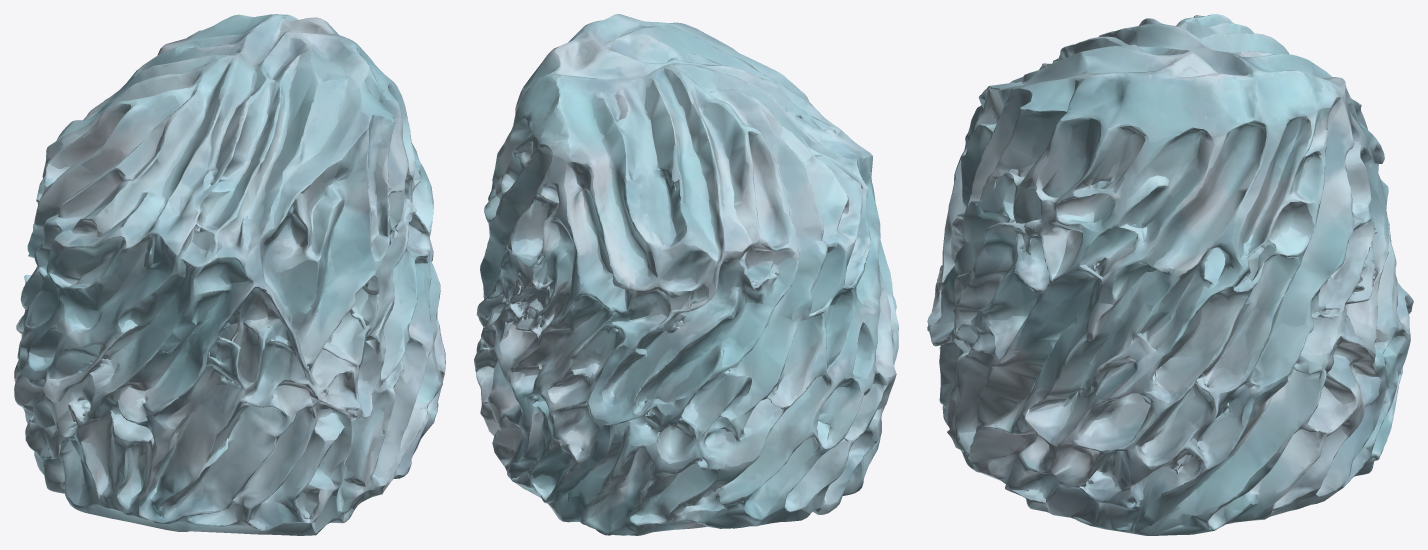
File: glacier-serac-v21.glb
3 views of the same model, side by side, from view 1: azimuth 30°, elevation 25°; view 2: azimuth 150°, elevation 25°; view 3: azimuth 270°, elevation 25° (orthographic). The views are drawn at different scales.
Visible parts, largest first — view 1: geometry_0; view 2: geometry_0; view 3: geometry_0.
Boxes of the visible parts, box(x1,y1,x2,y2) form: geometry_0: box(14, 14, 445, 535); geometry_0: box(474, 14, 898, 535); geometry_0: box(927, 14, 1413, 535).
Bounding box in the file's own units: 0.2977 × 0.2999 × 0.2985.
Materials: 1 (1 with a texture image).
